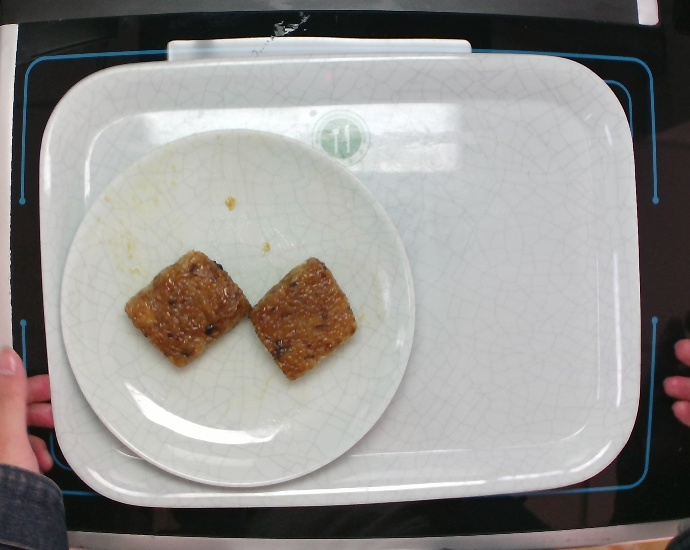JYsf-Da_Yuan_Pan: (58, 128, 415, 487)
